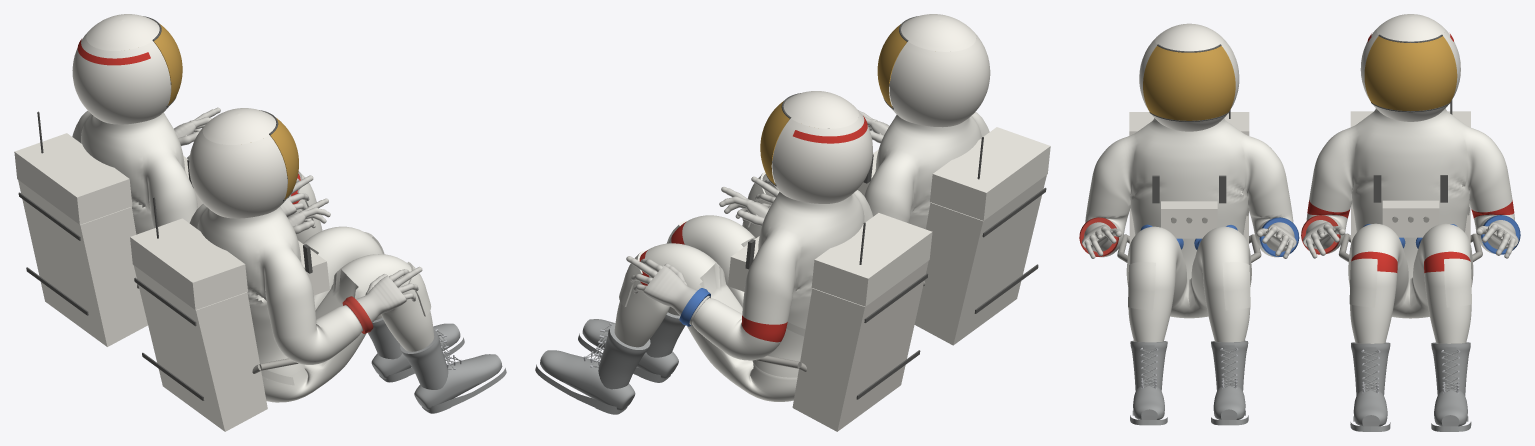
Rendered from riders.glb.
3 renders of one model, left to right at view 1: azimuth 30°, elevation 25°; view 2: azimuth 150°, elevation 25°; view 3: azimuth 270°, elevation 25°, orthographic. The views are drawn at different scales.
Parts seen in each view (by area): view 1: Irwin_Helmet_OuterThermalCover, Scott_Helmet_OuterThermalCover, Irwin_Arms_Sleeves, Scott_Legs_Stowage, Irwin_Boots_Laces, Irwin_Gloves_PressureGloves, Scott_Gloves_PressureGloves, Irwin_Helmet_VisorRim, Scott_Helmet_GoldSunVisor, Irwin_Helmet_GoldSunVisor, Scott_Helmet_VisorRim, Scott_Helmet_CommanderBand (+1 smaller); view 2: Scott_Helmet_OuterThermalCover, Irwin_Helmet_OuterThermalCover, Scott_Legs_Stowage, Scott_Legs_Trousers, Irwin_Arms_Sleeves, Scott_Boots_Laces, Scott_Arms_Sleeves, Scott_Gloves_PressureGloves, Scott_Helmet_VisorRim, Irwin_Helmet_GoldSunVisor, Scott_Helmet_GoldSunVisor, Irwin_Helmet_VisorRim (+2 smaller); view 3: Irwin_Arms_Sleeves, Scott_Legs_Stowage, Scott_Legs_Trousers, Irwin_Helmet_GoldSunVisor, Scott_Helmet_GoldSunVisor, Scott_Boots_Laces, Irwin_Helmet_OuterThermalCover, Scott_Helmet_OuterThermalCover, Irwin_Boots_Laces, Scott_Gloves_PressureGloves, Irwin_Gloves_PressureGloves, Scott_Arms_Sleeves (+7 smaller).
Boxes of the visible parts, left/top/right/bottom form: Irwin_Helmet_OuterThermalCover: left=130, top=108, right=329, bottom=431; Scott_Helmet_OuterThermalCover: left=14, top=14, right=202, bottom=346; Irwin_Arms_Sleeves: left=189, top=203, right=434, bottom=402; Scott_Legs_Stowage: left=72, top=111, right=318, bottom=234; Irwin_Boots_Laces: left=368, top=317, right=506, bottom=413; Irwin_Gloves_PressureGloves: left=287, top=198, right=422, bottom=331; Scott_Gloves_PressureGloves: left=174, top=107, right=313, bottom=216; Irwin_Helmet_VisorRim: left=134, top=110, right=312, bottom=400; Scott_Helmet_GoldSunVisor: left=154, top=23, right=182, bottom=105; Irwin_Helmet_GoldSunVisor: left=270, top=118, right=298, bottom=199; Scott_Helmet_VisorRim: left=18, top=16, right=193, bottom=315; Scott_Helmet_CommanderBand: left=77, top=39, right=150, bottom=65; Scott_Helmet_OuterThermalCover: left=728, top=91, right=932, bottom=431; Irwin_Helmet_OuterThermalCover: left=857, top=14, right=1050, bottom=345; Scott_Legs_Stowage: left=619, top=190, right=872, bottom=377; Scott_Legs_Trousers: left=614, top=215, right=797, bottom=401; Irwin_Arms_Sleeves: left=742, top=112, right=989, bottom=237; Scott_Boots_Laces: left=535, top=312, right=685, bottom=414; Scott_Arms_Sleeves: left=692, top=298, right=788, bottom=360; Scott_Gloves_PressureGloves: left=626, top=187, right=769, bottom=325; Scott_Helmet_VisorRim: left=745, top=93, right=927, bottom=399; Irwin_Helmet_GoldSunVisor: left=877, top=24, right=906, bottom=107; Scott_Helmet_GoldSunVisor: left=760, top=101, right=789, bottom=184; Irwin_Helmet_VisorRim: left=863, top=16, right=1046, bottom=313; Irwin_Arms_Sleeves: left=1085, top=118, right=1293, bottom=342; Scott_Legs_Stowage: left=1309, top=108, right=1511, bottom=307; Scott_Legs_Trousers: left=1348, top=223, right=1473, bottom=343; Irwin_Helmet_GoldSunVisor: left=1143, top=46, right=1235, bottom=120; Scott_Helmet_GoldSunVisor: left=1364, top=36, right=1457, bottom=111; Scott_Boots_Laces: left=1350, top=342, right=1471, bottom=431; Irwin_Helmet_OuterThermalCover: left=1129, top=23, right=1249, bottom=244; Scott_Helmet_OuterThermalCover: left=1350, top=14, right=1470, bottom=243; Irwin_Boots_Laces: left=1130, top=340, right=1248, bottom=425; Scott_Gloves_PressureGloves: left=1303, top=220, right=1518, bottom=258; Irwin_Gloves_PressureGloves: left=1082, top=222, right=1296, bottom=258; Scott_Arms_Sleeves: left=1306, top=197, right=1514, bottom=254.
Bounding box in the file's own units: 1.18 × 1.14 × 1.42.
